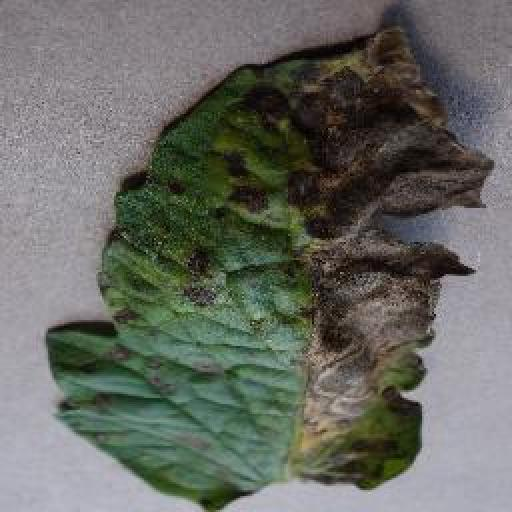Early Blight: (48, 5, 494, 512)
